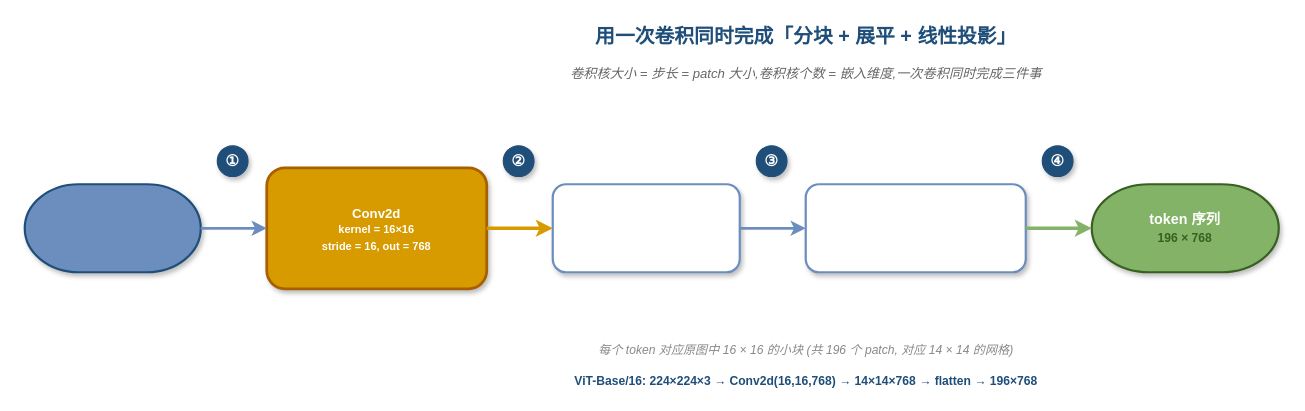
The diagram is 1305 pixels wide and 411 high, and some of its shapes have lost their labels. The shapes that lost their labels are listed below. From the top down, each one's centre as x and y in pixels, then its label:
the point at 113,229: 输入图像 224 × 224 × 3
the point at 647,229: 特征图 14 × 14 × 768
the point at 916,229: flatten + transpose 空间维度展平 + 转置
